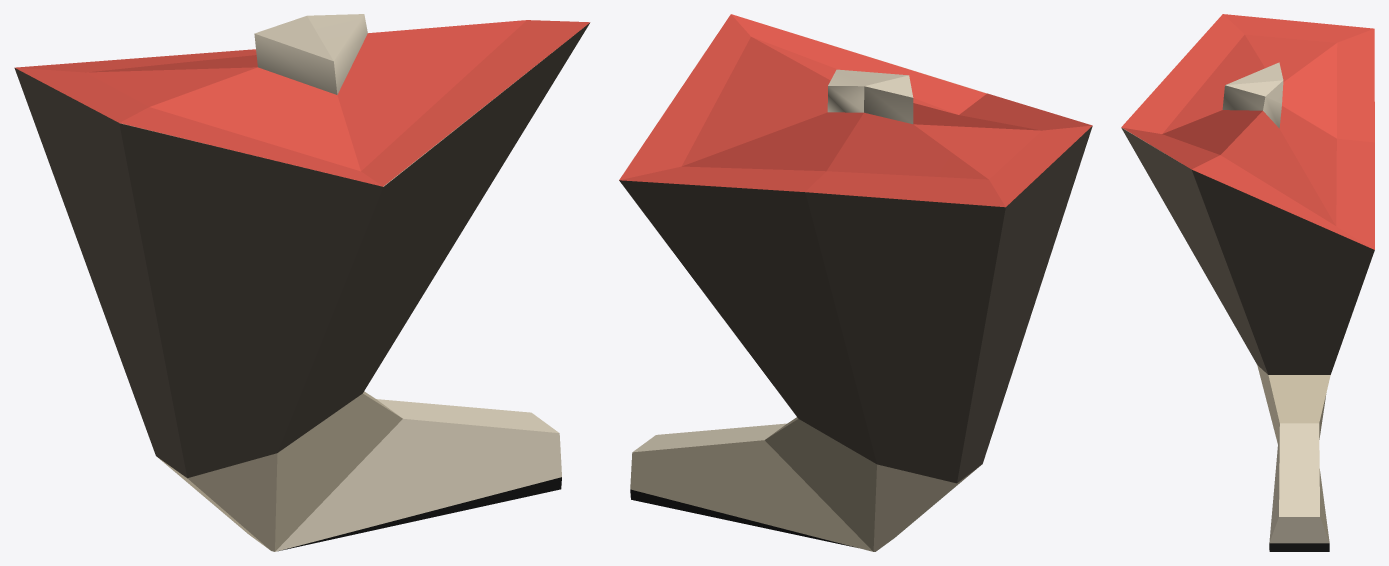
The model's file is racoon-leg-br.glb.
3 views of the same model, side by side, from view 1: azimuth 30°, elevation 25°; view 2: azimuth 150°, elevation 25°; view 3: azimuth 270°, elevation 25° (orthographic). The views are drawn at different scales.
Visible parts, largest first — view 1: BR; view 2: BR; view 3: BR.
Boxes of the visible parts, x1=… form: BR: x1=14, y1=14, x2=590, y2=551; BR: x1=619, y1=14, x2=1092, y2=551; BR: x1=1121, y1=14, x2=1374, y2=551.
Bounding box in the file's own units: 0.8331 × 0.8733 × 0.5226.
